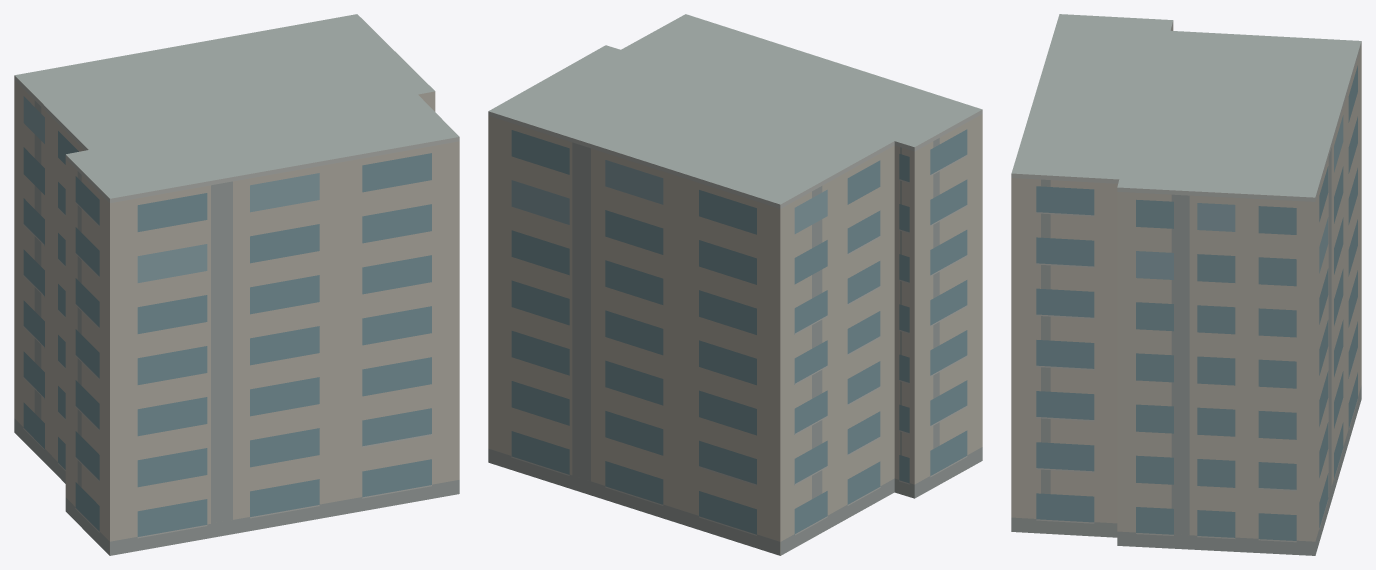
The model's file is survey-upis-32823251.glb.
The picture shows the model from 3 angles, left to right: view 1: azimuth 30°, elevation 25°; view 2: azimuth 150°, elevation 25°; view 3: azimuth 270°, elevation 25°; orthographic projection.
Parts seen in each view (by area): view 1: survey-upis-32823251.tmp; view 2: survey-upis-32823251.tmp; view 3: survey-upis-32823251.tmp.
Boxes of the visible parts, x1=… form: survey-upis-32823251.tmp: x1=14, y1=14, x2=459, y2=555; survey-upis-32823251.tmp: x1=488, y1=14, x2=982, y2=555; survey-upis-32823251.tmp: x1=1011, y1=14, x2=1361, y2=555.
Bounding box in the file's own units: 21.77 × 19.8 × 17.54.
